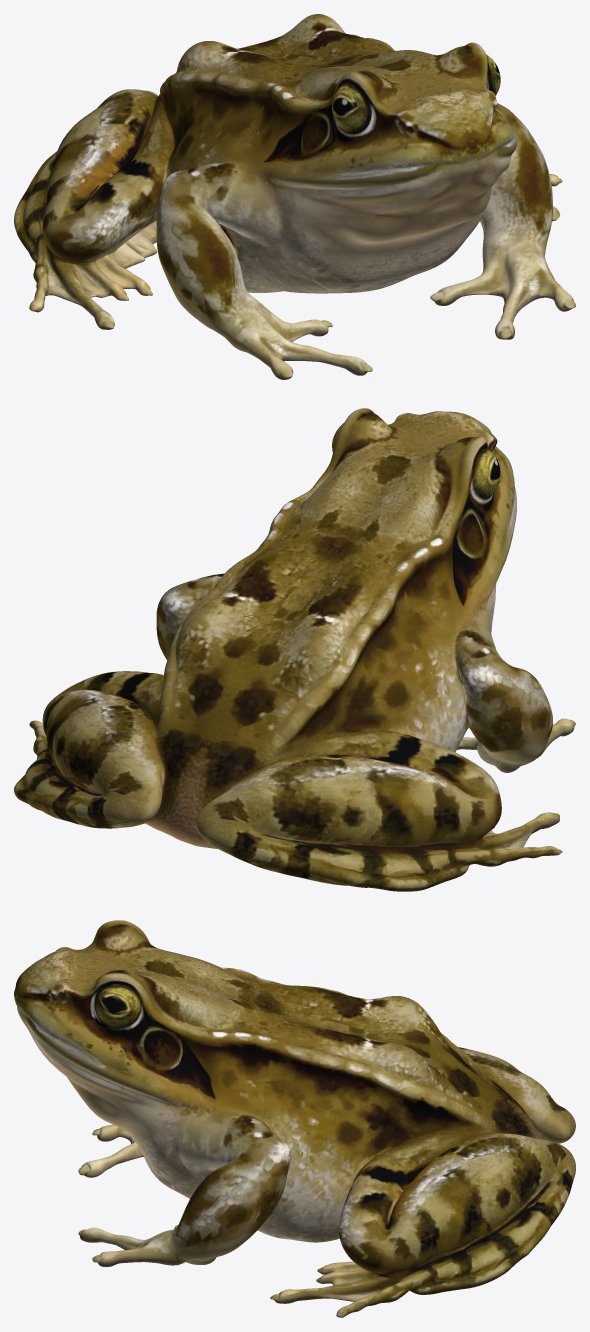
The model's file is s1_frog.glb.
The picture shows the model from 3 angles, top to bottom: view 1: azimuth 30°, elevation 25°; view 2: azimuth 150°, elevation 25°; view 3: azimuth 270°, elevation 25°; orthographic projection. The views are drawn at different scales.
Visible parts, largest first — view 1: mesh_node; view 2: mesh_node; view 3: mesh_node.
Part boxes in pixels (x1,y1,x2,y2): mesh_node: (14,14,575,379); mesh_node: (14,408,575,891); mesh_node: (14,920,575,1317).
Bounding box in the file's own units: 1.9 × 0.9781 × 1.9.
1 material, 1 textured.
